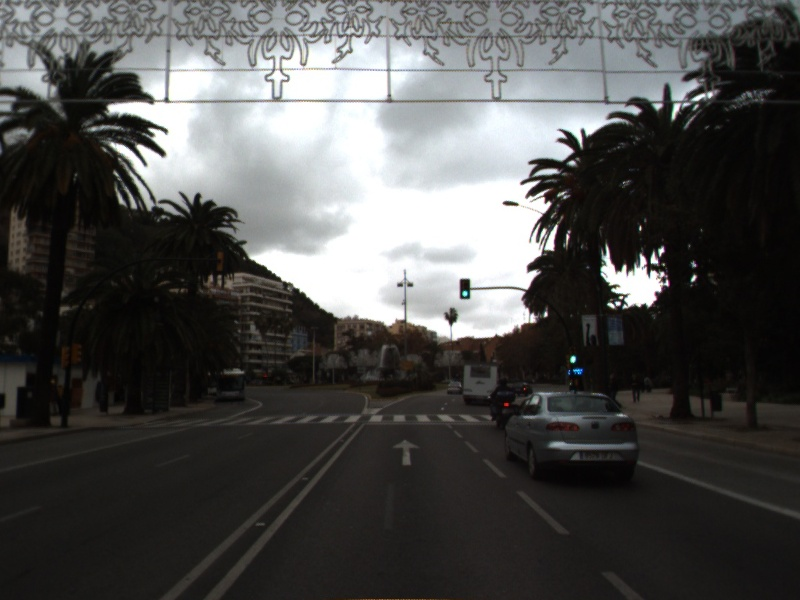STRAIGHT: (390, 437, 422, 467)
